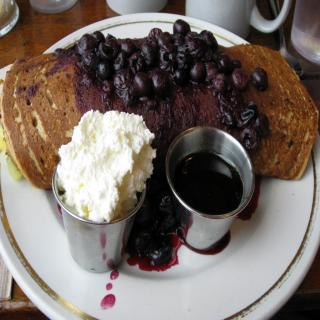Ice cream: (50, 107, 158, 269)
